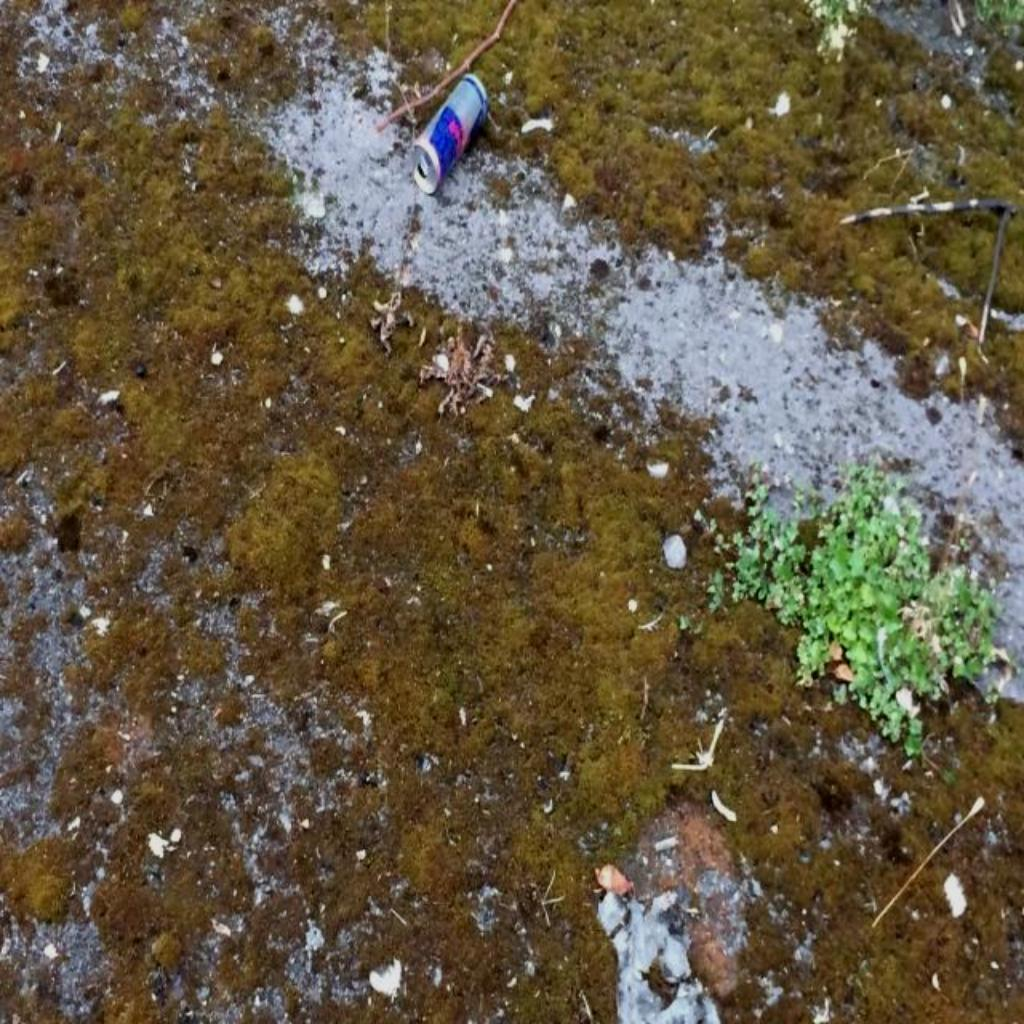garbage: (406, 78, 488, 192)
